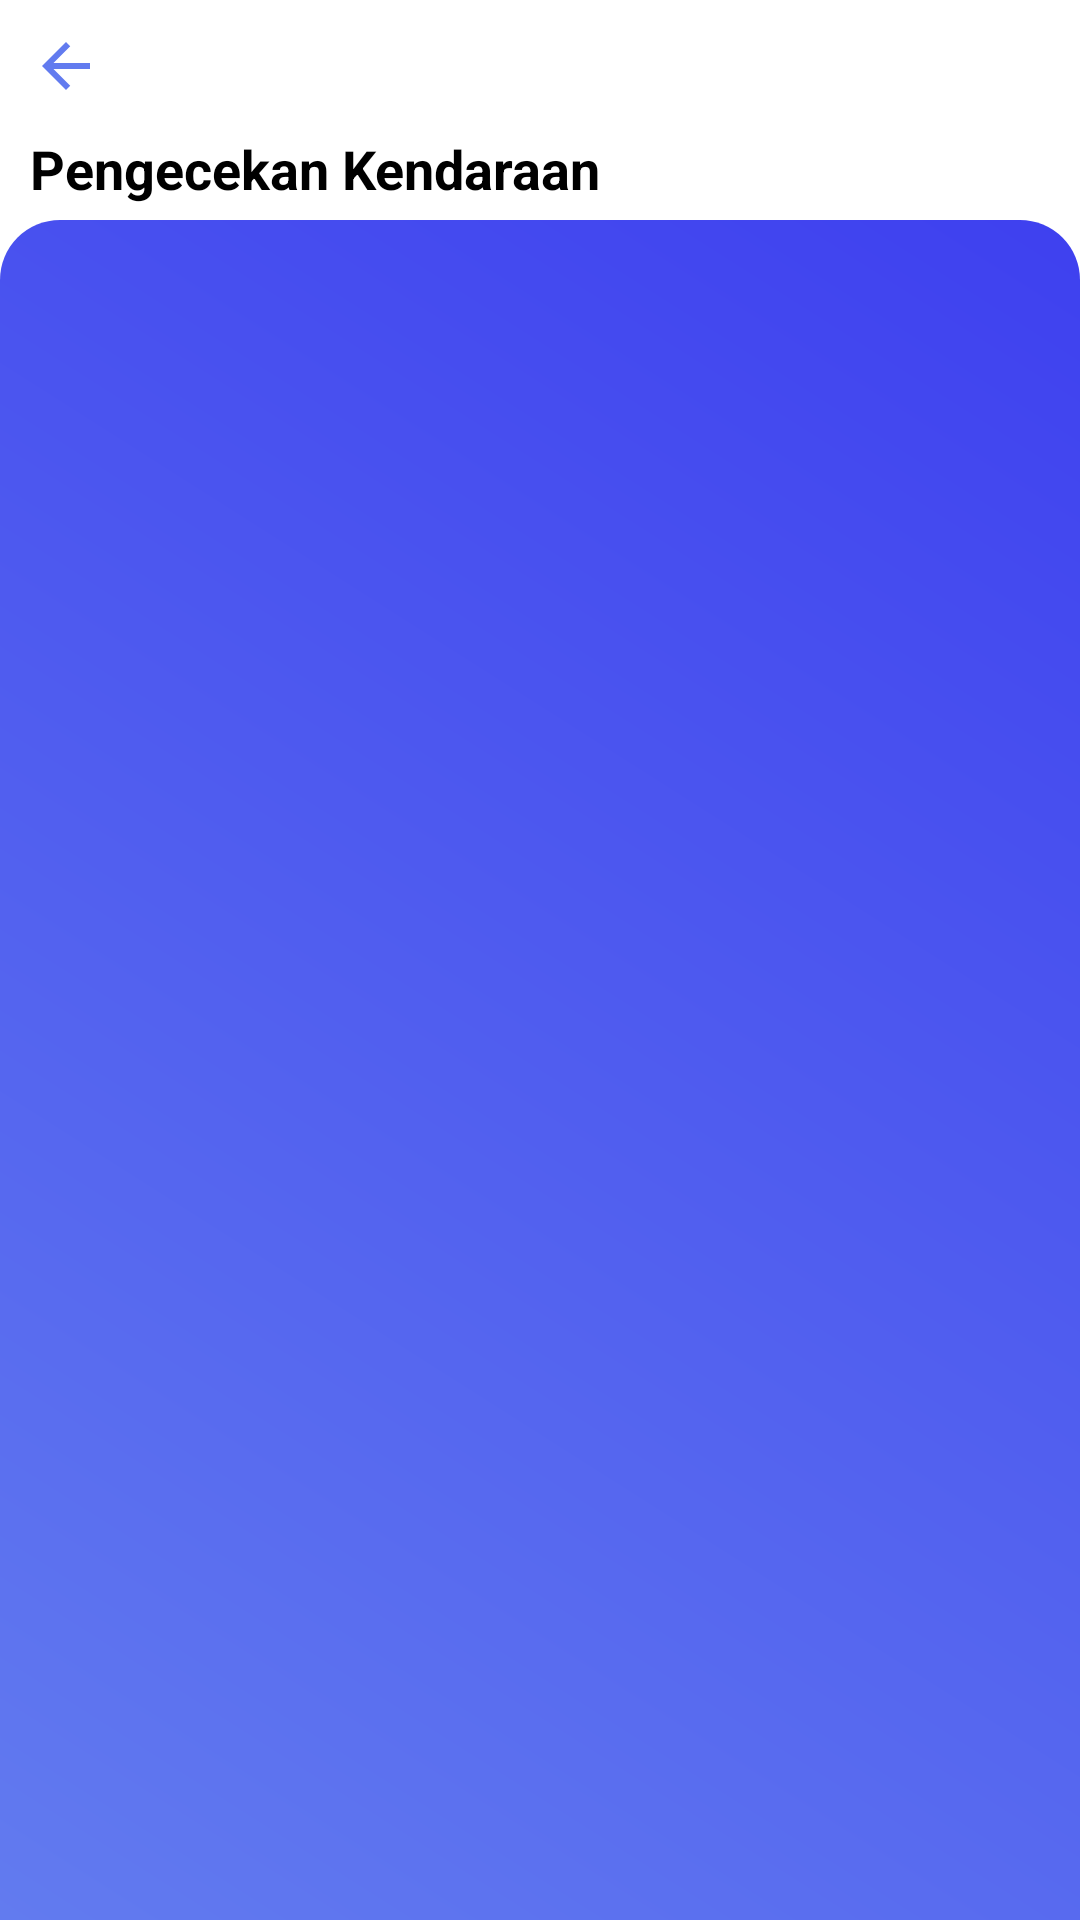

Screen size 1080px×1920px. Icon name, then its box in pixels as (x1, y1, x2, y2):
arrow back: (42, 42, 90, 90)
